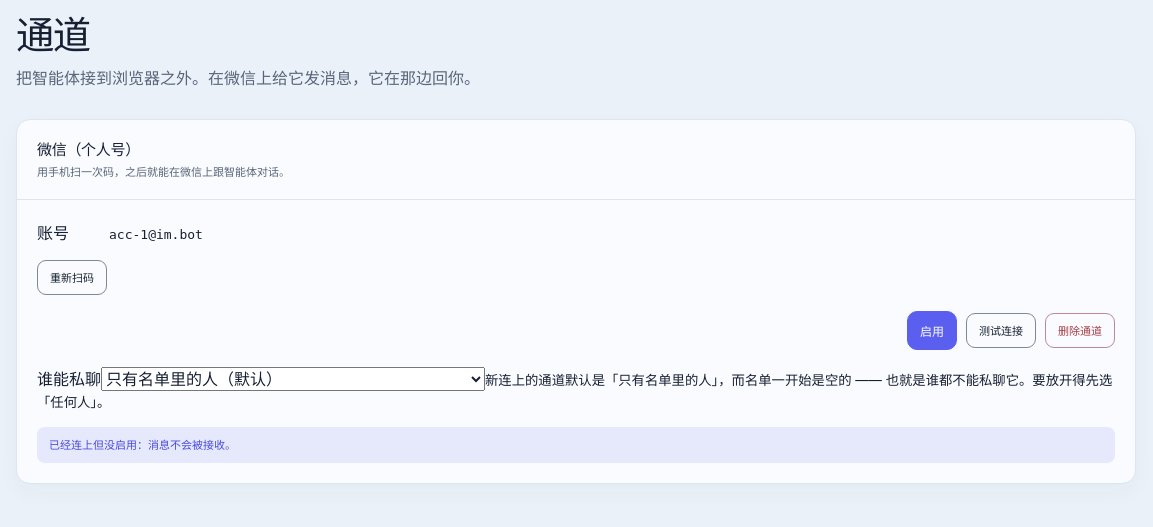
通道页 › 点「重新扫码」会先取二维码
Click the button "重新扫码". click: (72, 277)
box: x1=37 y1=260 x2=107 y2=295
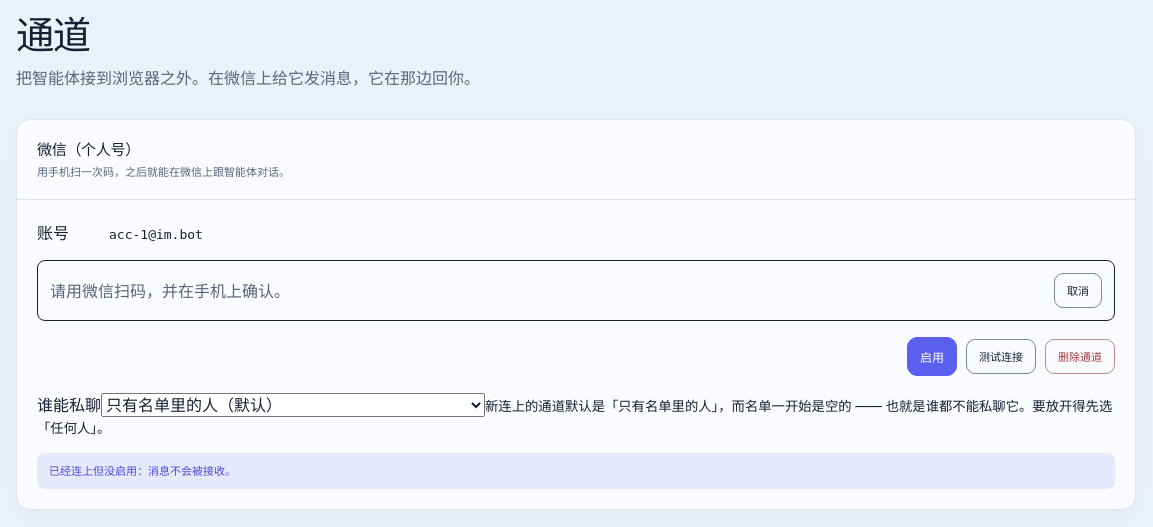
Result: the text "请用微信扫码，并在手机上确认。" is shown at x1=50 y1=281 x2=290 y2=301
